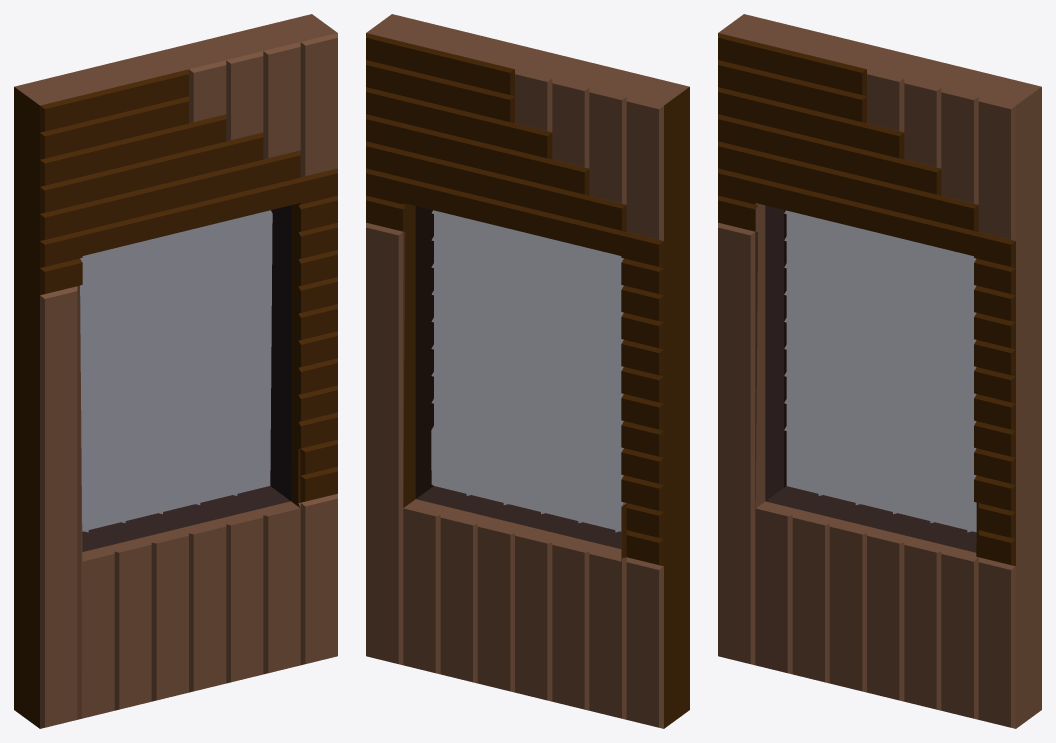
File: WoodenBoardWindow.glb
The picture shows the model from 3 angles, left to right: view 1: azimuth 30°, elevation 25°; view 2: azimuth 150°, elevation 25°; view 3: azimuth 330°, elevation 25°; orthographic projection.
Visible parts, largest first — view 1: wall_woodenBoard_window; view 2: wall_woodenBoard_window; view 3: wall_woodenBoard_window.
Boxes of the visible parts, <box> form: wall_woodenBoard_window: <box>14,14,337,728</box>; wall_woodenBoard_window: <box>366,14,689,728</box>; wall_woodenBoard_window: <box>718,14,1041,728</box>.
Size of what is drawn, in the model's own units: 2 by 4 by 0.3576.
2 materials, 2 textured.
